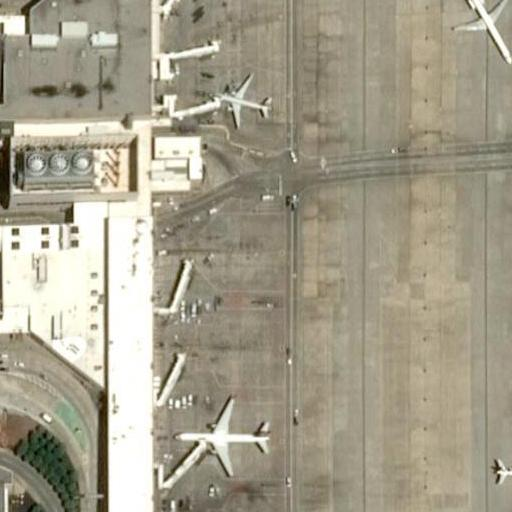Aircraft: (169, 389, 272, 482), (445, 0, 512, 64), (210, 66, 271, 130), (488, 429, 512, 504)
